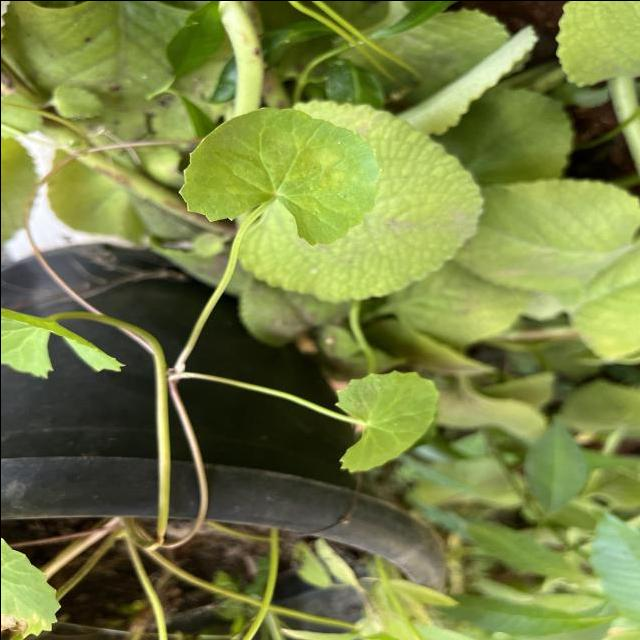Centella asiatica: (174, 103, 385, 249)
